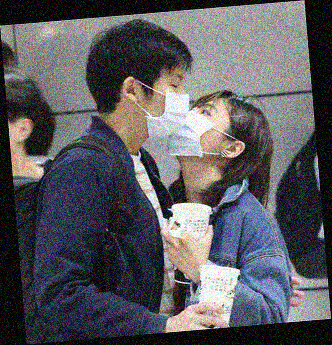with_mask: (162, 102, 230, 156), (138, 73, 191, 134)
